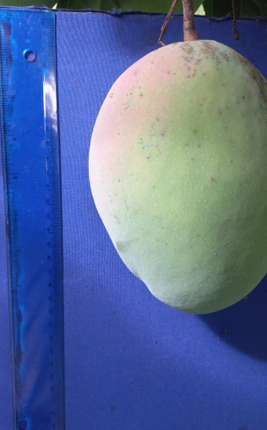Mango-sano: (89, 40, 266, 313)
